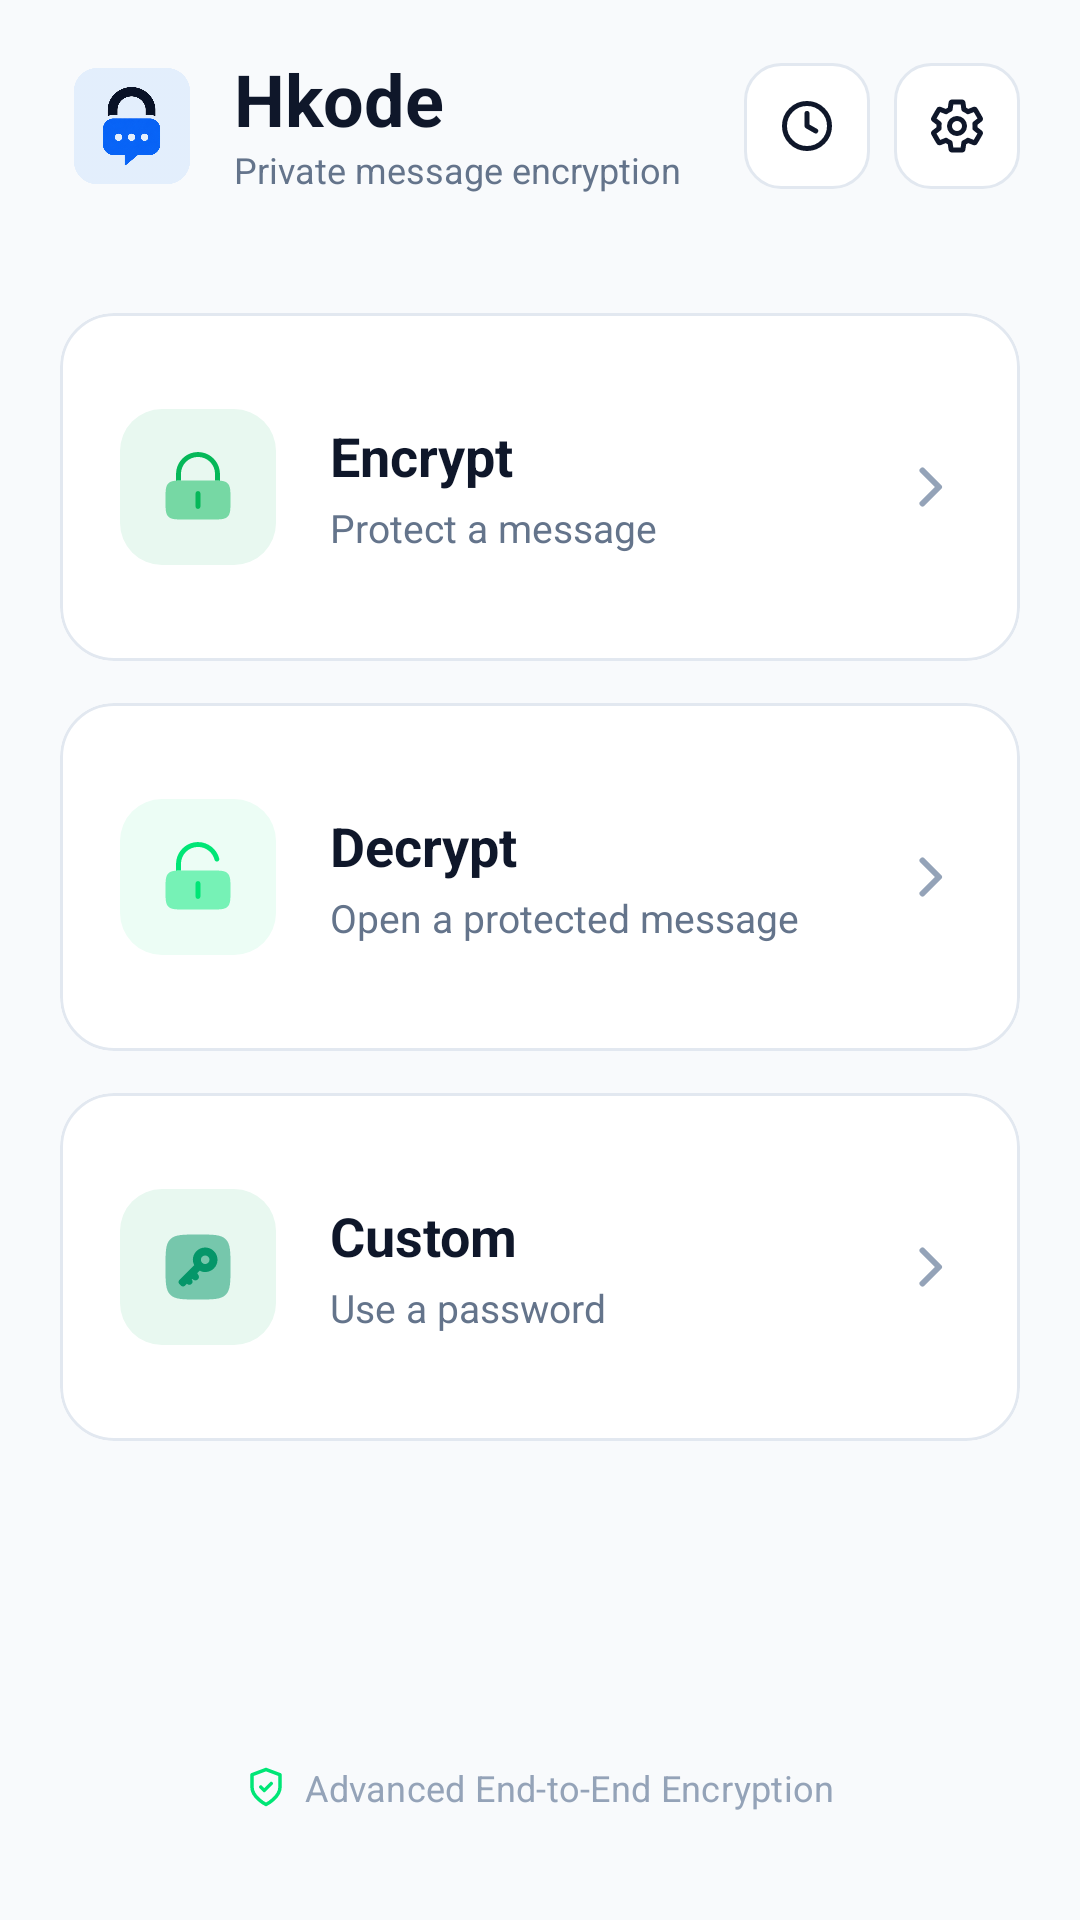

Icon bounding boxes for this 1080*1920 phone screenshot, format (x1, y1, x2, y2):
History: (782, 101, 832, 151)
Open custom: (919, 1247, 942, 1287)
Open decrypt: (919, 857, 942, 897)
Open encrypt: (919, 467, 942, 507)
Security badge: (250, 1767, 282, 1807)
Settings: (931, 99, 983, 153)
